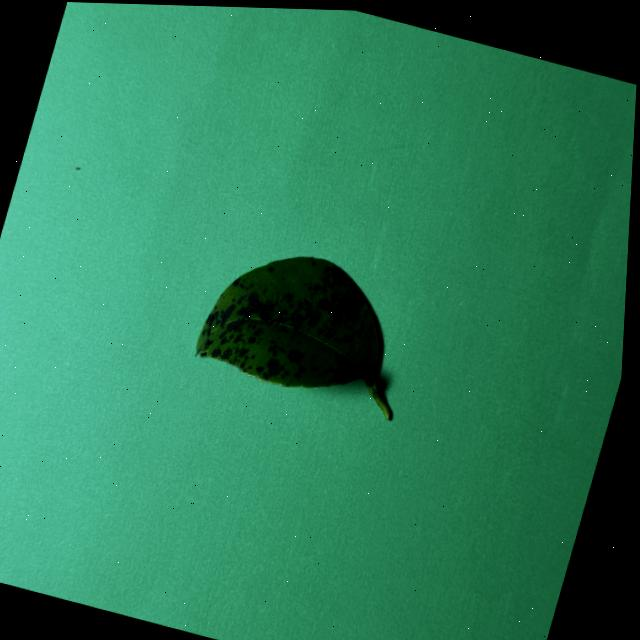sooty_mold: (195, 257, 388, 417)
